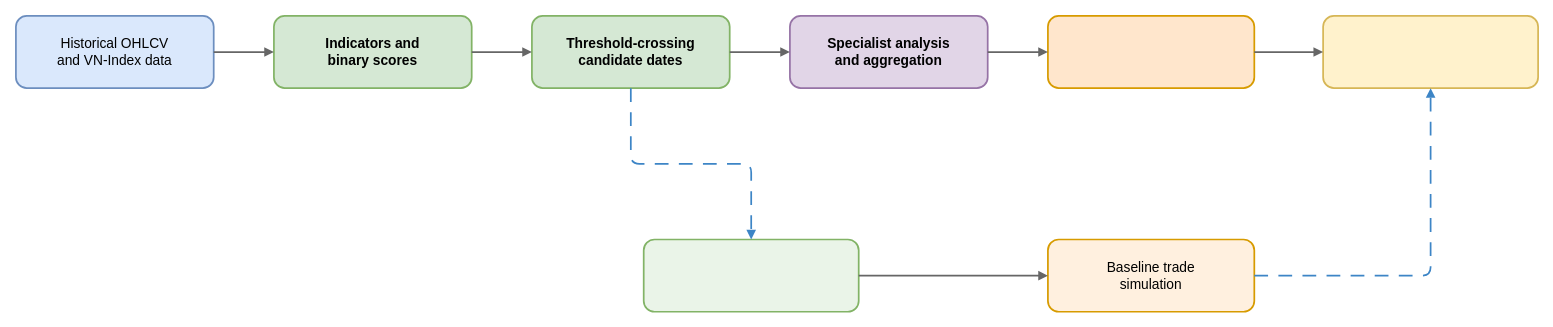
Some shapes in this 1553 by 327 pixel diagram are drawn without their labels. Here are the shapes that lost their labels. From the top down, the centre of each, then its label:
At (1151,52): "Next-open entry and event-driven exits".
At (1430,52): "Metrics, benchmarks, tests, and artifacts".
At (750,275): "Engine-only baseline: all candidate dates".
